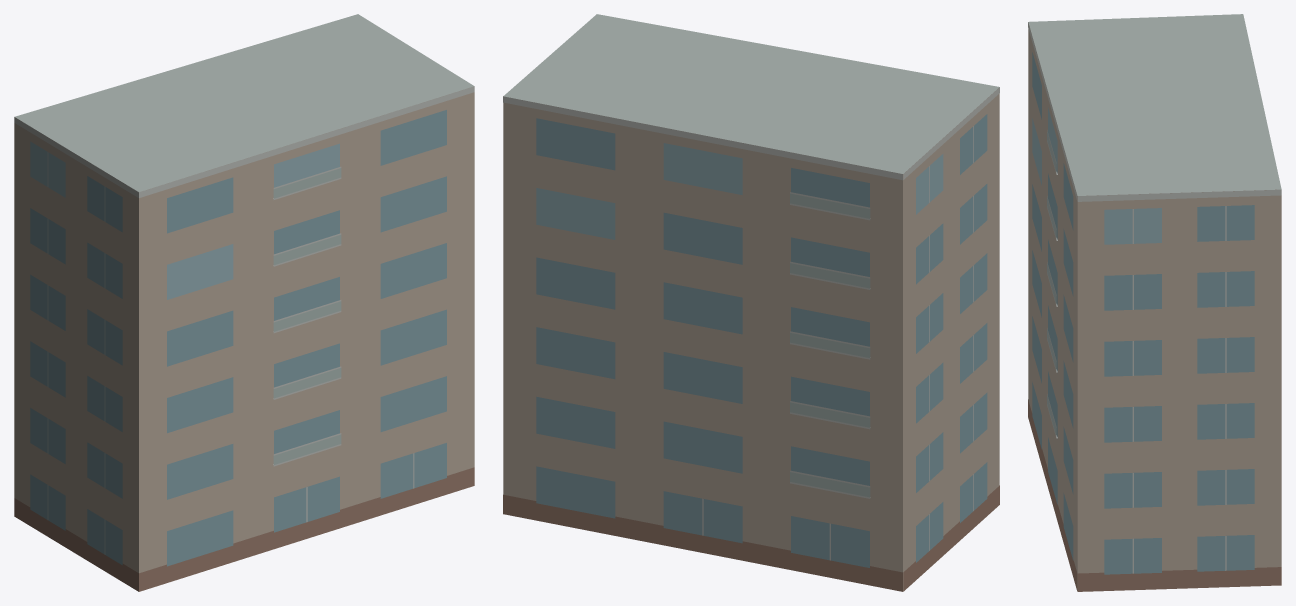
The model's file is survey-upis-32736700.glb.
3 renders of one model, left to right at view 1: azimuth 30°, elevation 25°; view 2: azimuth 150°, elevation 25°; view 3: azimuth 270°, elevation 25°, orthographic. The views are drawn at different scales.
Visible parts, largest first — view 1: survey-upis-32736700.tmp; view 2: survey-upis-32736700.tmp; view 3: survey-upis-32736700.tmp.
Boxes of the visible parts, x1,y1,x2,y2 form: survey-upis-32736700.tmp: (14,14,474,591); survey-upis-32736700.tmp: (503,14,999,591); survey-upis-32736700.tmp: (1028,14,1281,591).
Size of the model in its own units: 16.19 by 16.4 by 9.53.
